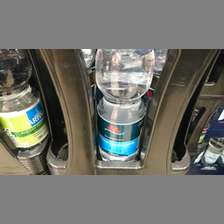water: (93, 49, 155, 163), (1, 49, 50, 152)
